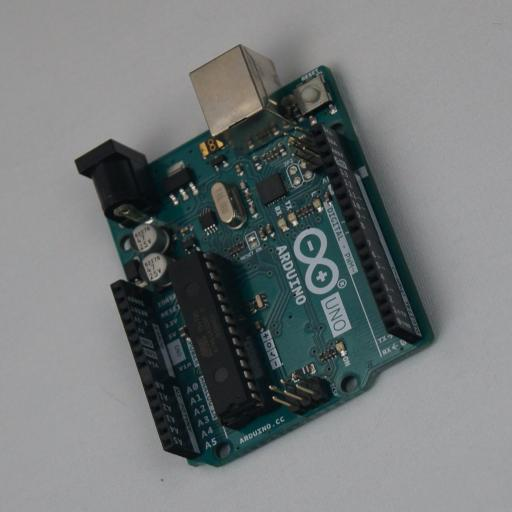Arduino Uno -Green-: (75, 44, 439, 467)
